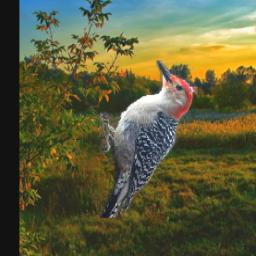Woodpecker: (100, 60, 198, 218)
